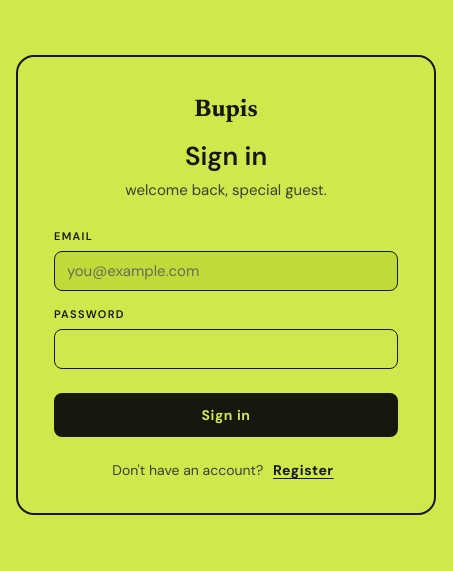
Login › toggles to register mode and back
What coordinates should you click on to do the following:
click the button "Register"
I would click on:
 (303, 470)
Its box is [267,459,340,481].
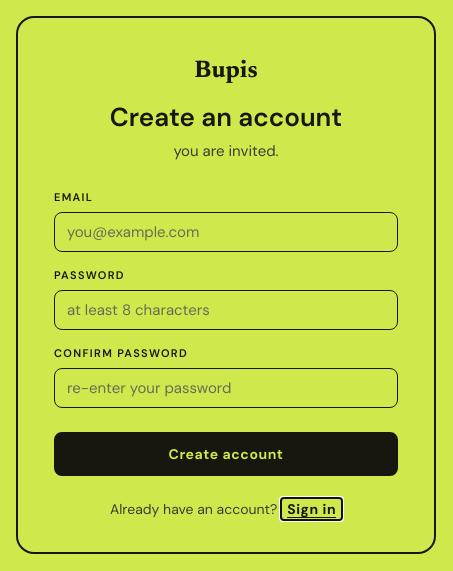
Result: the heading "Create an account" is shown at [110,100,342,134]
Result: the text "you are invited." is shown at [173,141,279,161]
Result: the password field labelled "Confirm password" is shown at [54,368,398,408]
What coordinates should you click on to do the following:
click the button "Sign in"
I would click on:
 (312, 509)
Its box is [281,498,342,520].
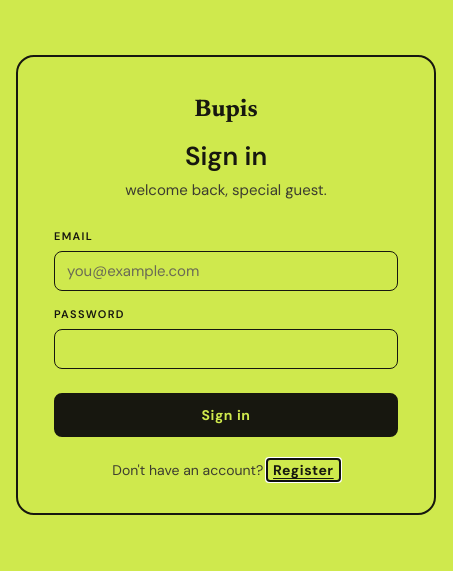
Result: the heading "Sign in" is shown at [185,139,267,173]
Result: the text labelled "Confirm password" is gone
